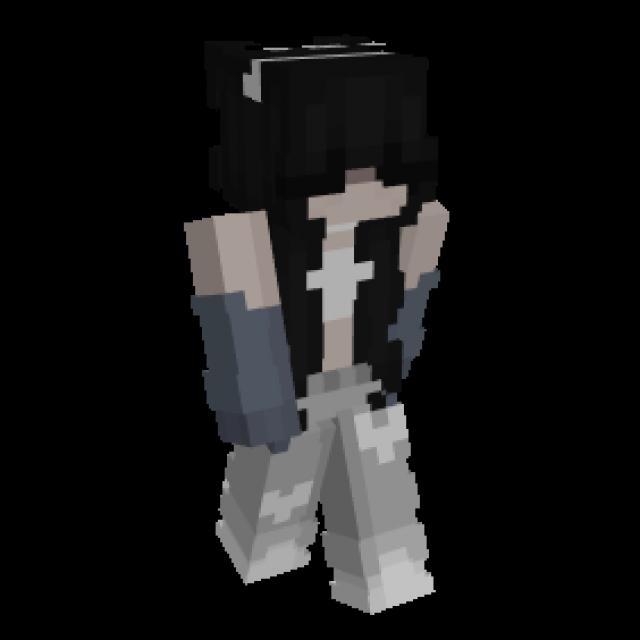Player: (164, 29, 454, 614)
